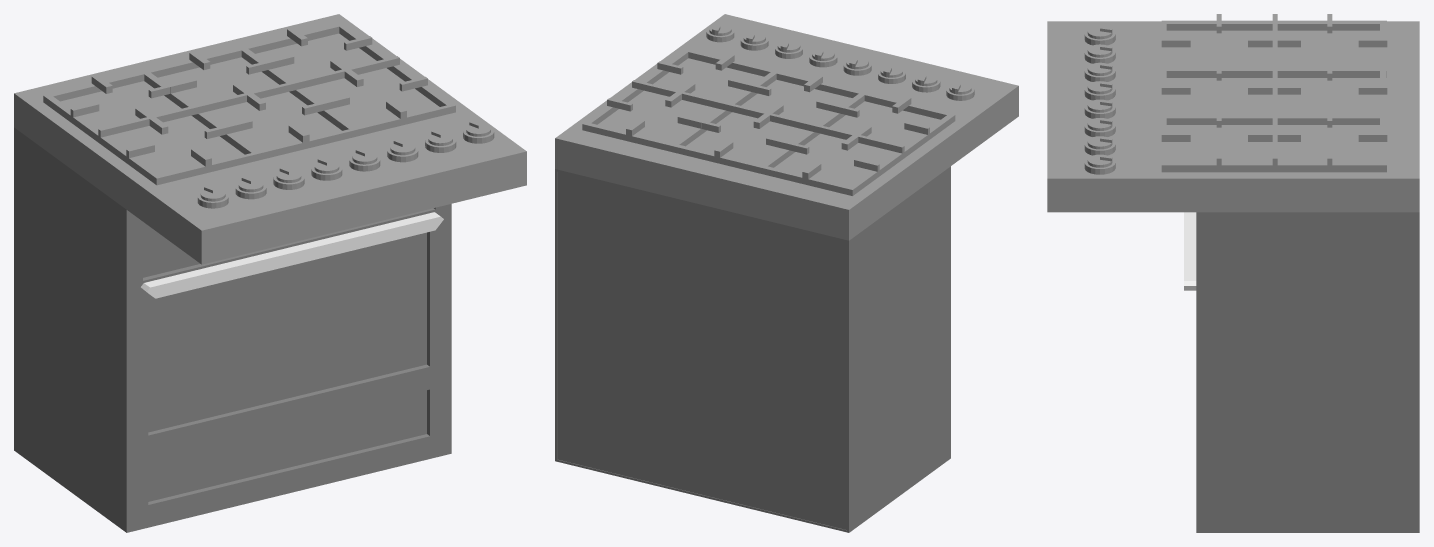
File: Blockout_Stove_02.fbx
3 renders of one model, left to right at view 1: azimuth 30°, elevation 25°; view 2: azimuth 150°, elevation 25°; view 3: azimuth 270°, elevation 25°, orthographic. The views are drawn at different scales.
Visible parts, largest first — view 1: Stove_Oven_01; view 2: Stove_Oven_01; view 3: Stove_Oven_01.
Part boxes in pixels (left/top/right/bottom): Stove_Oven_01: left=14, top=14, right=526, bottom=532; Stove_Oven_01: left=555, top=14, right=1018, bottom=532; Stove_Oven_01: left=1047, top=14, right=1419, bottom=532.
Size of the model in its own units: 150 by 164 by 150.
